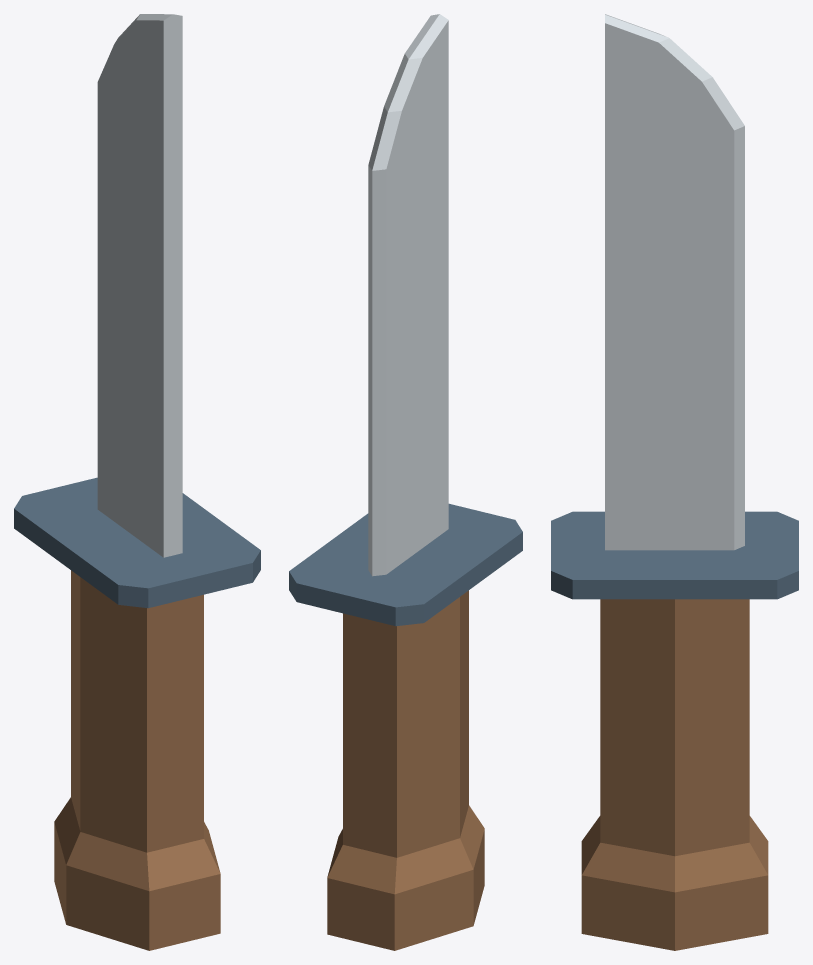
Rendered from knife_smooth.dae.
The picture shows the model from 3 angles, left to right: view 1: azimuth 30°, elevation 25°; view 2: azimuth 150°, elevation 25°; view 3: azimuth 270°, elevation 25°; orthographic projection. The views are drawn at different scales.
Parts seen in each view (by area): view 1: knife_smooth; view 2: knife_smooth; view 3: knife_smooth.
Part boxes in pixels (x1,y1,x2,y2): knife_smooth: [14, 14, 260, 950]; knife_smooth: [289, 14, 522, 950]; knife_smooth: [551, 14, 798, 950].
Size of the model in its own units: 0.0574 by 0.3537 by 0.088.
